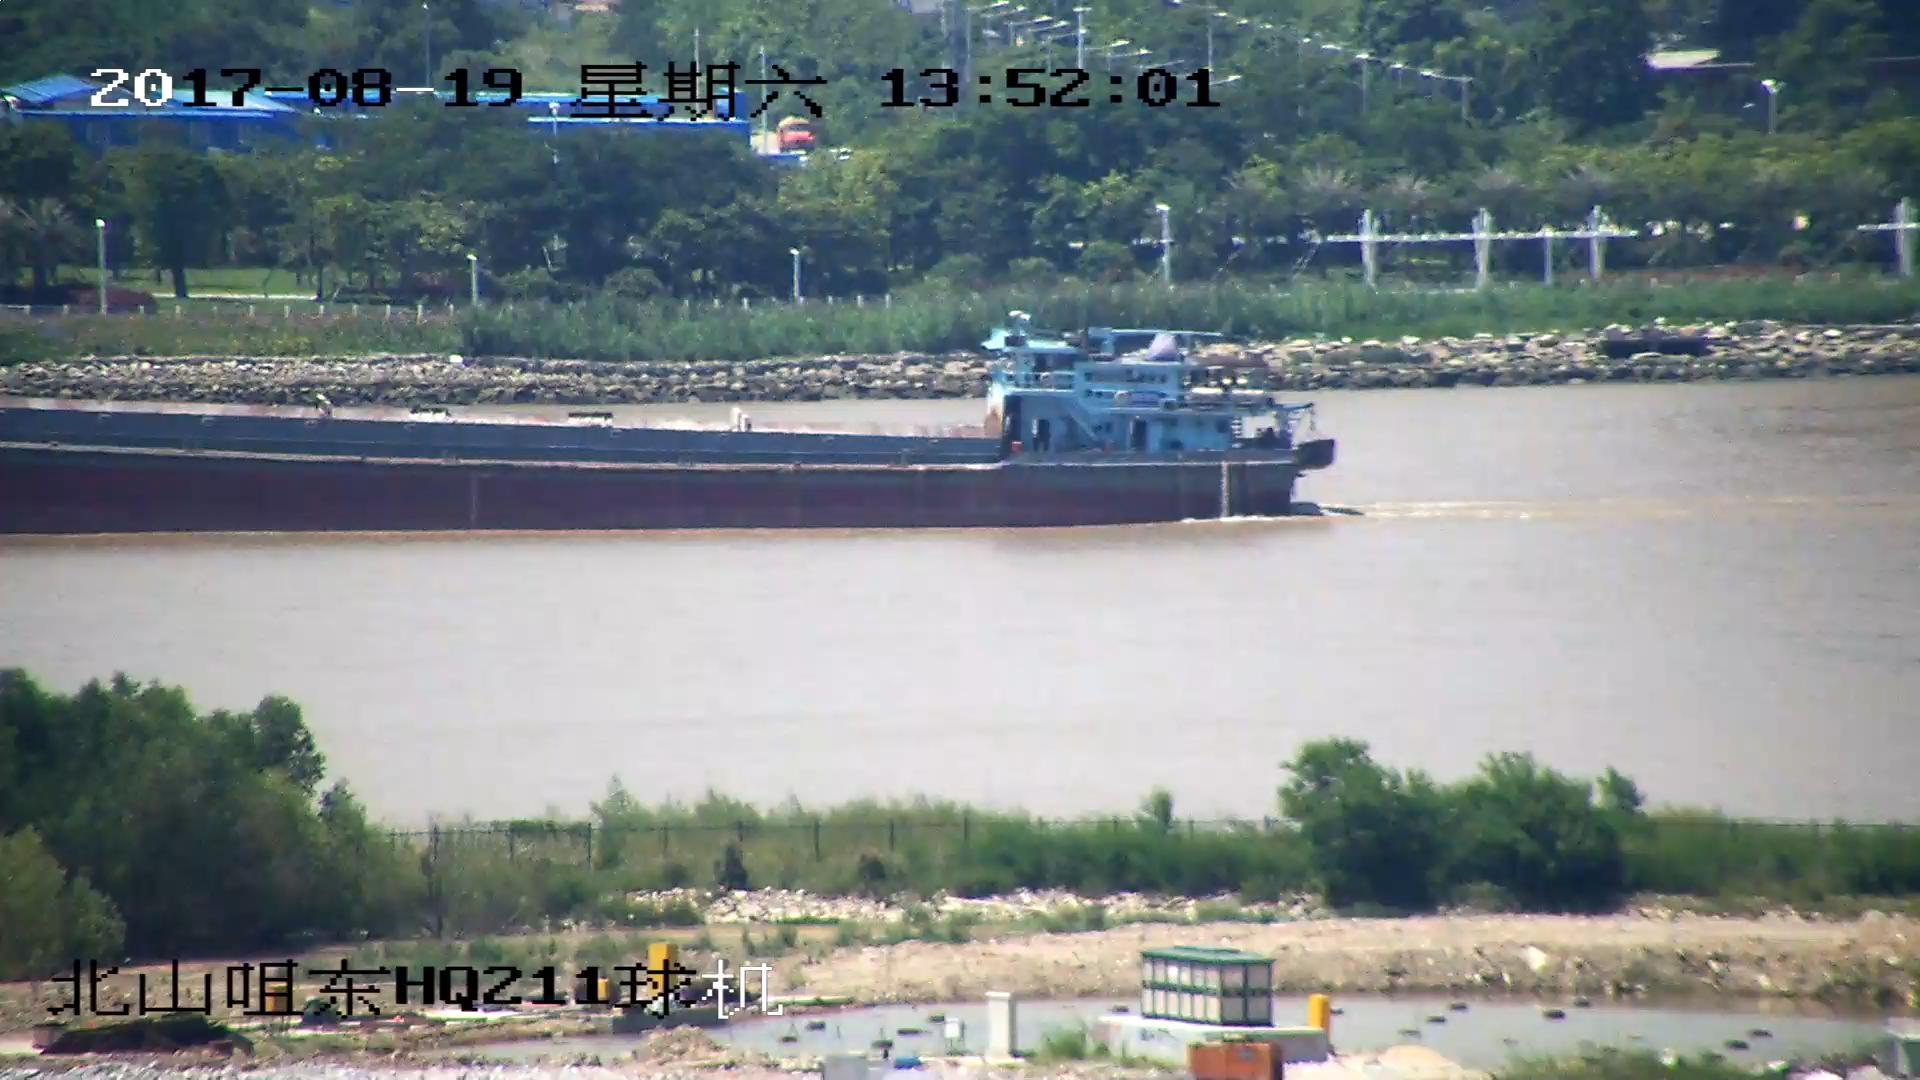Ship: (3, 309, 1341, 531)
